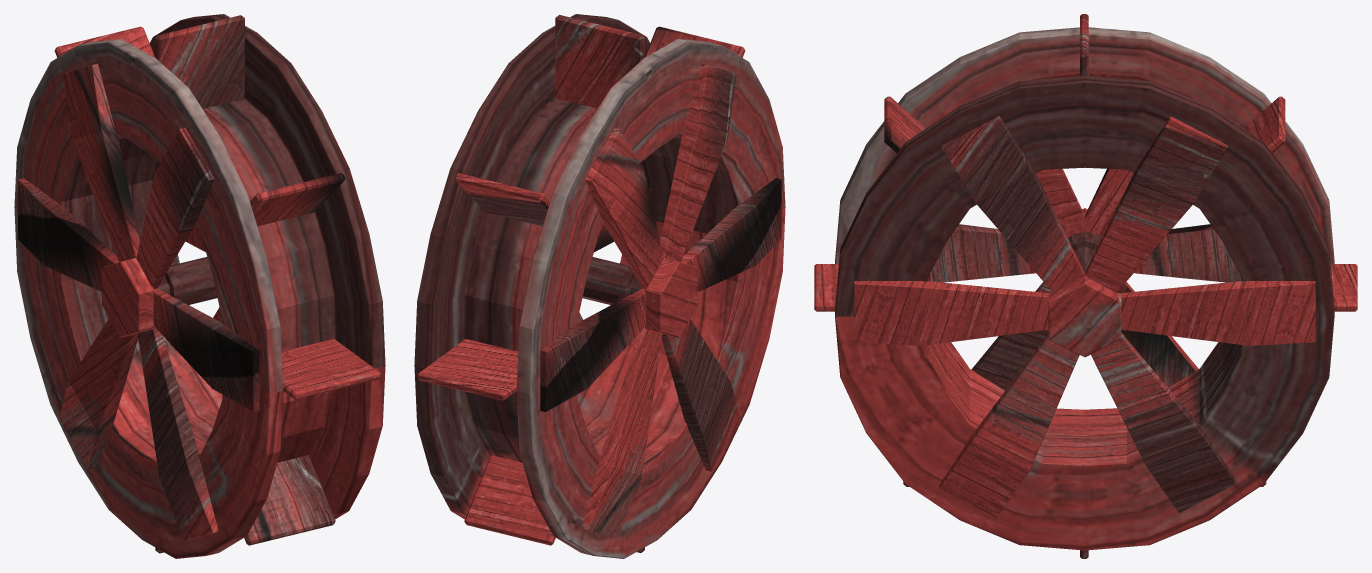
File: fancy_wheel.obj
3 views of the same model, side by side, from view 1: azimuth 30°, elevation 25°; view 2: azimuth 150°, elevation 25°; view 3: azimuth 270°, elevation 25° (orthographic). The views are drawn at different scales.
Bounding box in the file's own units: 3.03 × 9.41 × 9.17.
